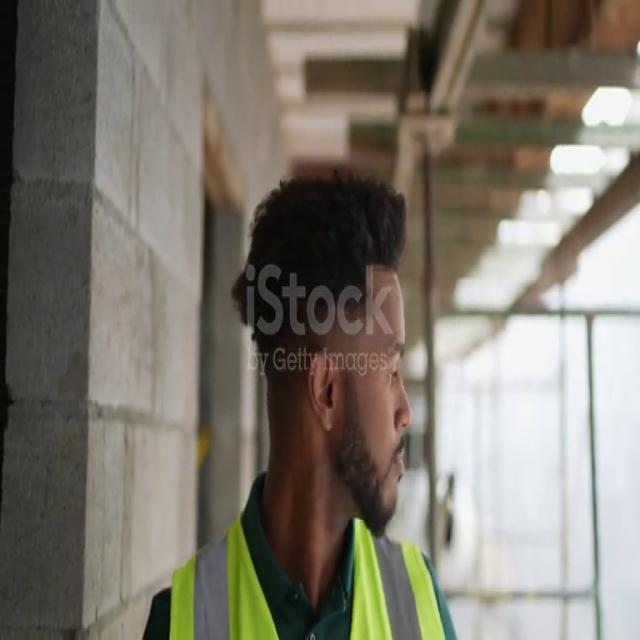sem_capacete: (225, 152, 414, 565)
